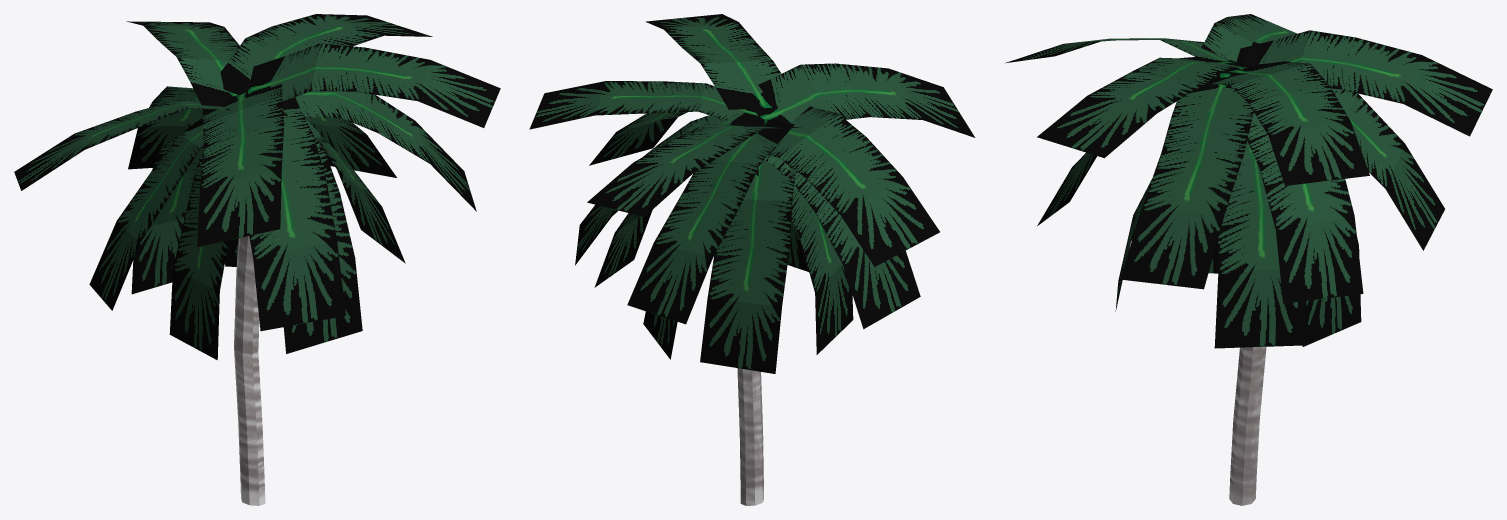
File: palmera.dae
3 views of the same model, side by side, from view 1: azimuth 30°, elevation 25°; view 2: azimuth 150°, elevation 25°; view 3: azimuth 270°, elevation 25° (orthographic). The views are drawn at different scales.
Visible parts, largest first — view 1: hoja palmera.005, hoja palmera.014, hoja palmera.010, Circle, hoja palmera.003, hoja palmera.006, hoja palmera.011, hoja palmera.009, hoja palmera.012, hoja palmera.004, hoja palmera.002, hoja palmera.013 (+3 smaller); view 2: hoja palmera.002, hoja palmera.013, hoja palmera.007, hoja palmera.014, hoja palmera.011, hoja palmera.010, hoja palmera.012, hoja palmera.006, hoja palmera.003, Circle, hoja palmera.009, hoja palmera (+3 smaller); view 3: hoja palmera.009, hoja palmera, hoja palmera.012, hoja palmera.008, hoja palmera.011, hoja palmera.010, hoja palmera.007, Circle, hoja palmera.013, hoja palmera.001, hoja palmera.014, hoja palmera.005.
Boxes of the visible parts, bbox=[...] form: hoja palmera.005: bbox=[207, 97, 345, 331]; hoja palmera.014: bbox=[197, 83, 284, 247]; hoja palmera.010: bbox=[247, 43, 500, 127]; Circle: bbox=[234, 236, 265, 505]; hoja palmera.003: bbox=[169, 153, 228, 360]; hoja palmera.006: bbox=[89, 124, 203, 310]; hoja palmera.011: bbox=[220, 14, 432, 95]; hoja palmera.009: bbox=[283, 91, 476, 211]; hoja palmera.012: bbox=[126, 21, 239, 106]; hoja palmera.004: bbox=[283, 134, 362, 353]; hoja palmera.002: bbox=[131, 118, 203, 294]; hoja palmera.013: bbox=[14, 100, 231, 190]; hoja palmera.002: bbox=[700, 160, 795, 373]; hoja palmera.013: bbox=[768, 106, 939, 266]; hoja palmera.007: bbox=[627, 119, 794, 324]; hoja palmera.014: bbox=[754, 63, 975, 137]; hoja palmera.011: bbox=[529, 81, 764, 131]; hoja palmera.010: bbox=[645, 14, 781, 109]; hoja palmera.012: bbox=[587, 124, 801, 216]; hoja palmera.006: bbox=[764, 155, 920, 329]; hoja palmera.003: bbox=[756, 168, 853, 354]; Circle: bbox=[737, 368, 763, 505]; hoja palmera.009: bbox=[589, 112, 687, 165]; hoja palmera: bbox=[594, 210, 652, 287]; hoja palmera.009: bbox=[1120, 73, 1253, 289]; hoja palmera: bbox=[1214, 141, 1306, 348]; hoja palmera.012: bbox=[1235, 30, 1492, 136]; hoja palmera.008: bbox=[1205, 83, 1363, 303]; hoja palmera.011: bbox=[1207, 61, 1369, 185]; hoja palmera.010: bbox=[1037, 57, 1265, 158]; hoja palmera.007: bbox=[1242, 41, 1444, 250]; Circle: bbox=[1229, 346, 1266, 505]; hoja palmera.013: bbox=[1195, 14, 1296, 73]; hoja palmera.001: bbox=[1302, 237, 1361, 346]; hoja palmera.014: bbox=[1005, 38, 1242, 70]; hoja palmera.005: bbox=[1037, 152, 1096, 225].
Size of the model in its own units: 2.81 by 2.76 by 2.89.
